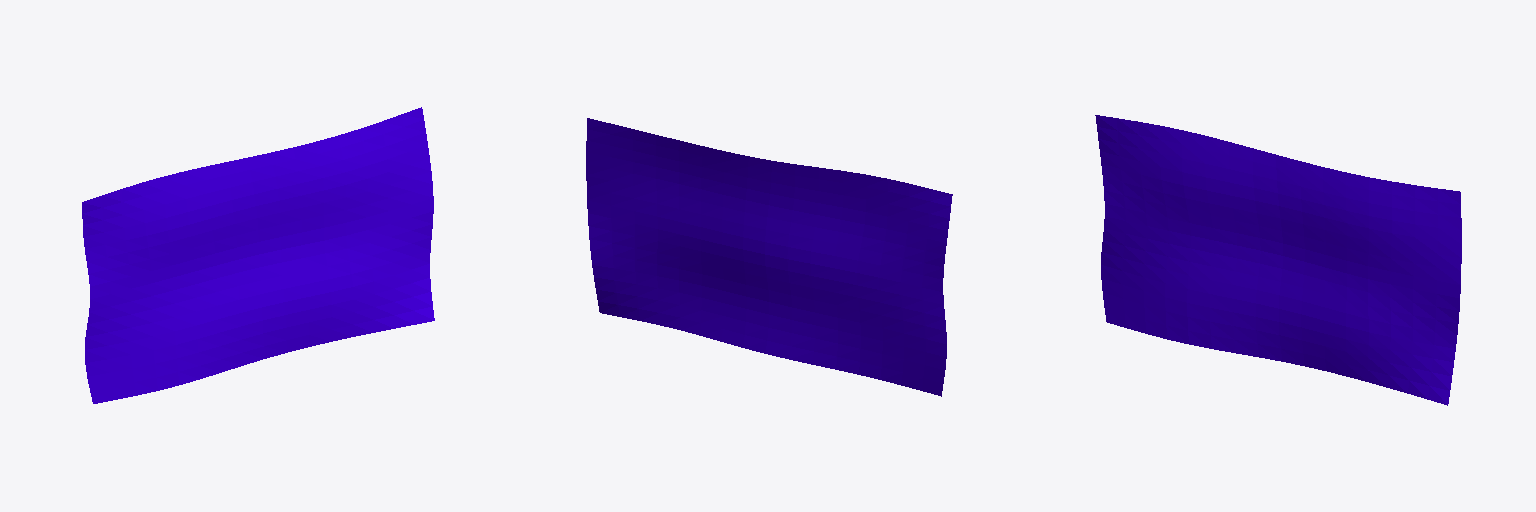
3 renders of one model, left to right at view 1: azimuth 30°, elevation 25°; view 2: azimuth 150°, elevation 25°; view 3: azimuth 330°, elevation 25°, orthographic.
Parts seen in each view (by area): view 1: ER3; view 2: ER3; view 3: ER3.
Part boxes in pixels (left/top/right/bottom): ER3: left=82, top=107, right=434, bottom=403; ER3: left=586, top=118, right=952, bottom=396; ER3: left=1095, top=115, right=1461, bottom=405.
Size of the model in its own units: 3.66 by 2.03 by 0.261.